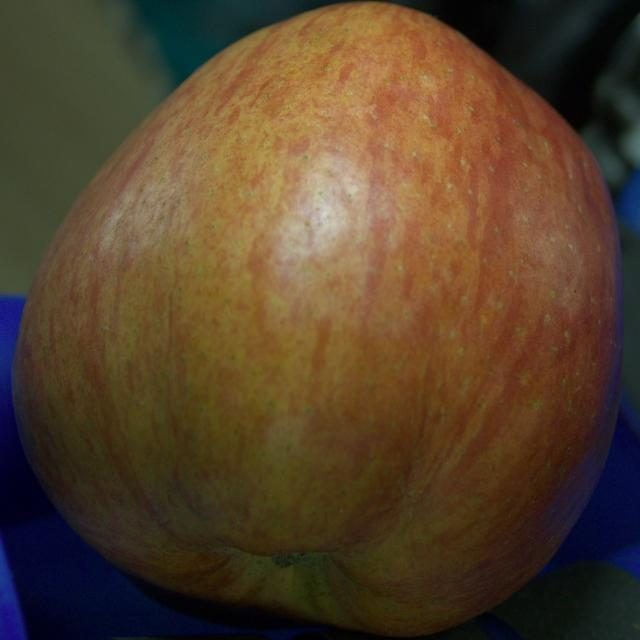apple: (12, 3, 622, 636)
